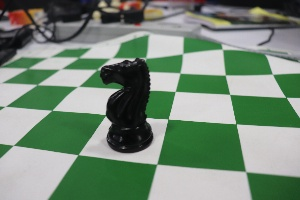black_horse: (91, 45, 157, 157)
